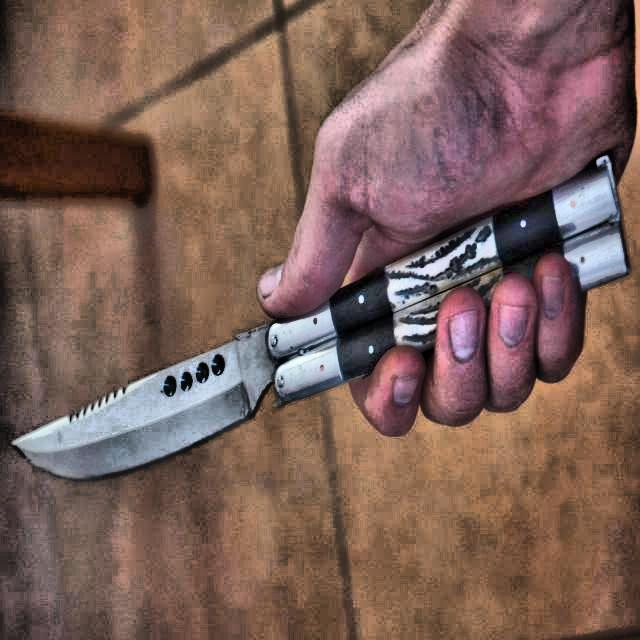knife: (12, 154, 627, 480)
